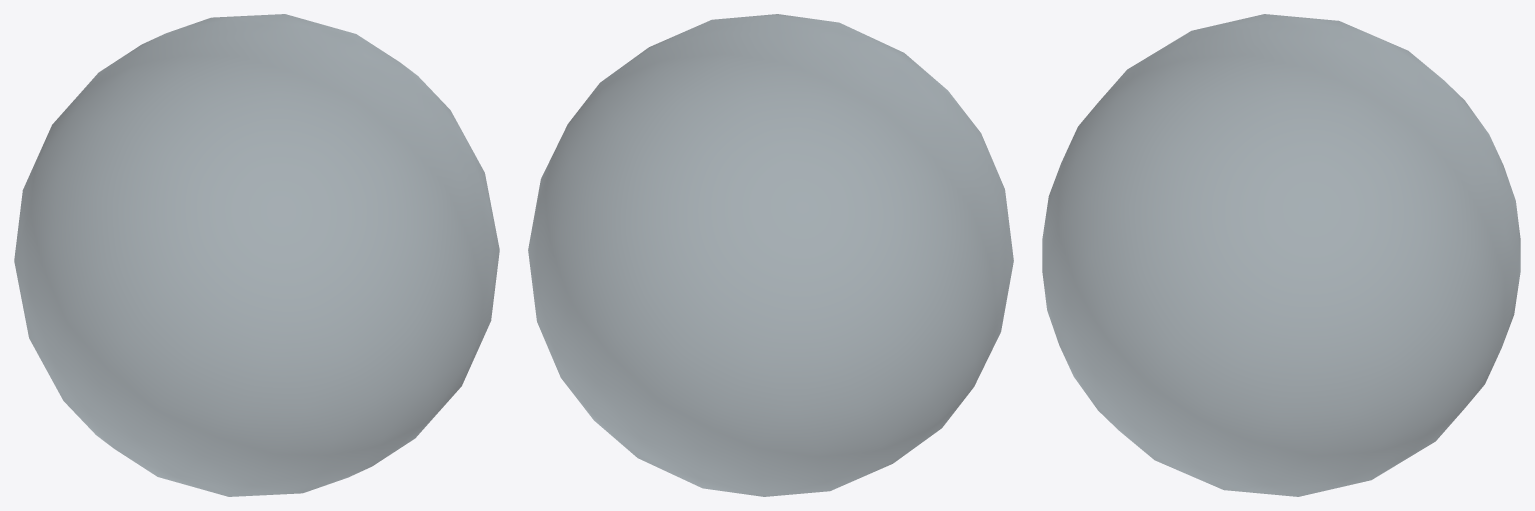
Rendered from bubble.glb.
3 renders of one model, left to right at view 1: azimuth 30°, elevation 25°; view 2: azimuth 150°, elevation 25°; view 3: azimuth 270°, elevation 25°, orthographic.
Parts seen in each view (by area): view 1: Icosphere.001; view 2: Icosphere.001; view 3: Icosphere.001.
Part boxes in pixels (box(x1,y1,x2,y2)): Icosphere.001: box(14, 14, 499, 496); Icosphere.001: box(528, 14, 1013, 496); Icosphere.001: box(1042, 14, 1520, 496).
Size of what is drawn, in the model's own units: 2.3 by 2.33 by 2.3.
Materials: 1 (1 with a texture image).
